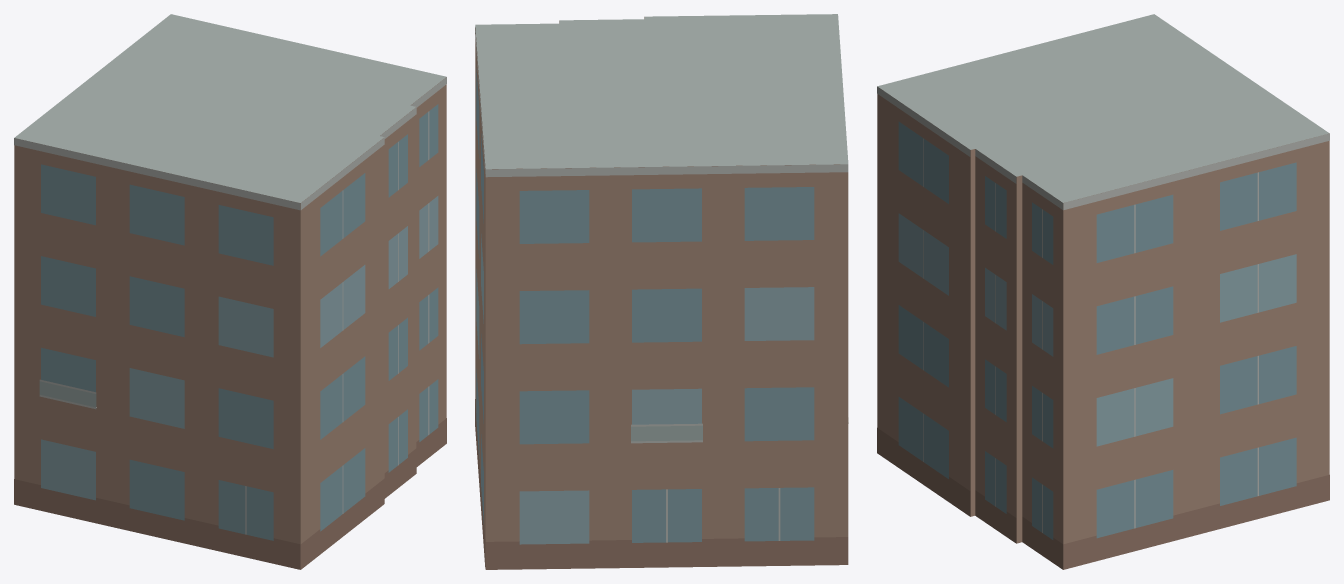
The model's file is survey-upis-32569699.glb.
The picture shows the model from 3 angles, left to right: view 1: azimuth 30°, elevation 25°; view 2: azimuth 150°, elevation 25°; view 3: azimuth 270°, elevation 25°; orthographic projection. The views are drawn at different scales.
Visible parts, largest first — view 1: survey-upis-32569699.tmp; view 2: survey-upis-32569699.tmp; view 3: survey-upis-32569699.tmp.
Part boxes in pixels (x1,y1,x2,y2): survey-upis-32569699.tmp: [14, 14, 446, 569]; survey-upis-32569699.tmp: [475, 14, 848, 569]; survey-upis-32569699.tmp: [877, 14, 1329, 569].
Size of the model in its own units: 13.54 by 12.25 by 13.7.
